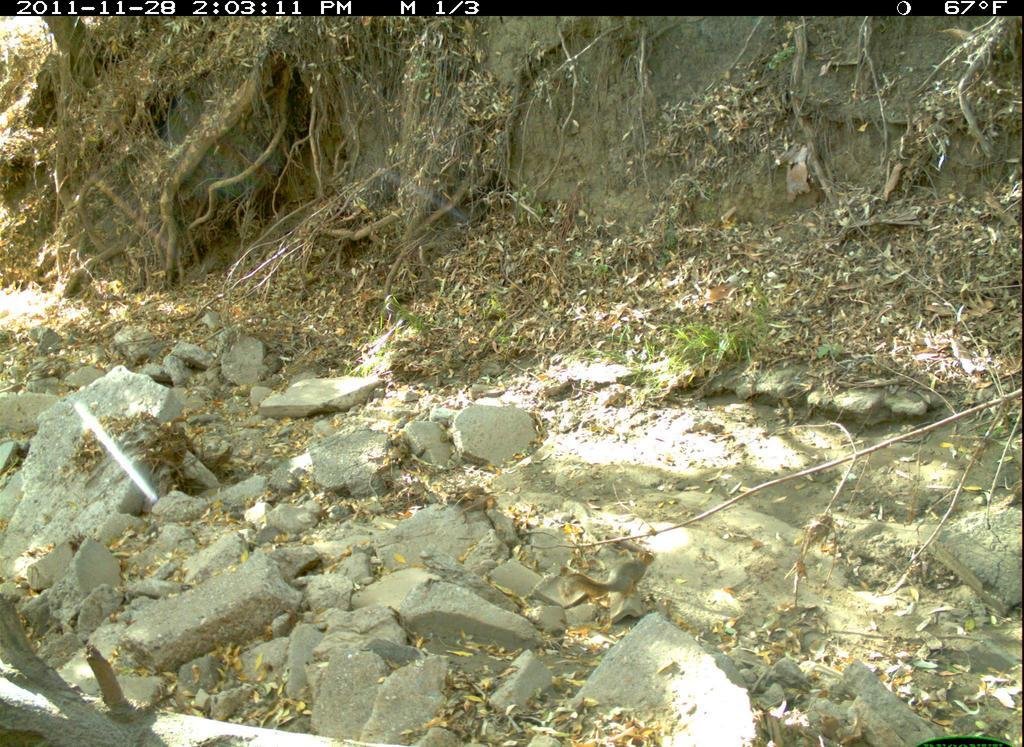squirrel: (552, 547, 664, 620)
